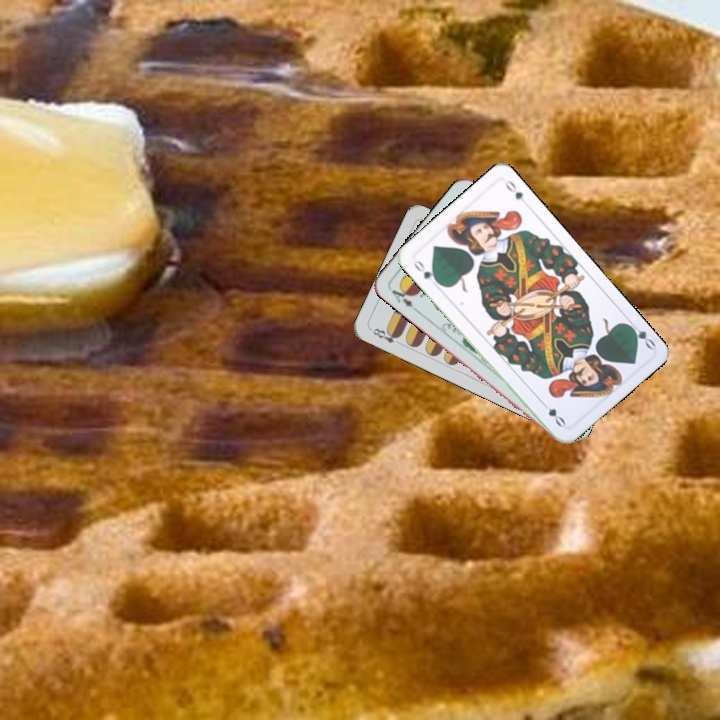E8: (367, 324, 404, 348)
EA: (385, 282, 420, 314)
GO: (623, 317, 658, 352), (410, 255, 442, 287)
